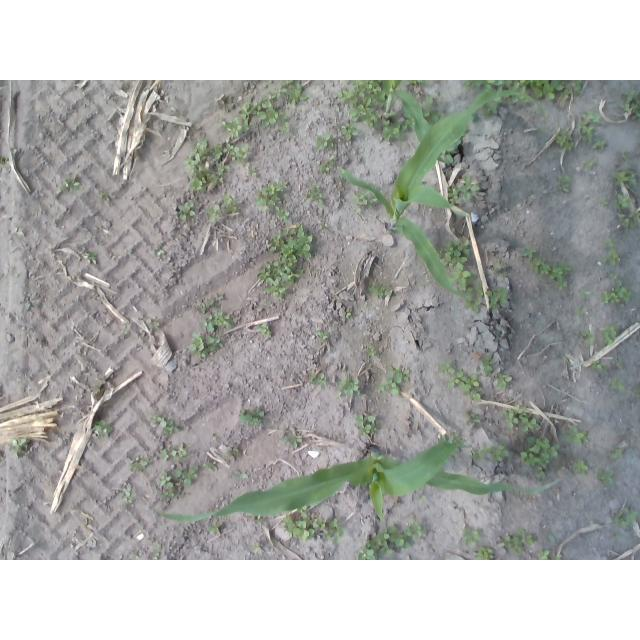Maize: (338, 88, 547, 297), (112, 442, 563, 522), (379, 81, 410, 120)
Weeds: (338, 81, 444, 140), (255, 223, 313, 300), (462, 81, 582, 116), (440, 236, 485, 312), (185, 141, 250, 191), (358, 520, 423, 560), (285, 505, 345, 543), (156, 465, 199, 499), (255, 181, 290, 219), (521, 436, 560, 468), (448, 370, 481, 403), (496, 527, 534, 554), (448, 176, 480, 208), (504, 405, 541, 432), (257, 93, 288, 125), (530, 259, 571, 282), (189, 332, 222, 358), (147, 412, 181, 436), (472, 442, 509, 462), (602, 282, 630, 307), (202, 309, 233, 331), (621, 90, 640, 120), (338, 375, 362, 398), (486, 288, 510, 311), (239, 407, 266, 427), (159, 443, 187, 461), (563, 427, 589, 446), (239, 103, 257, 129), (202, 294, 224, 315), (476, 355, 497, 377), (614, 508, 638, 527), (282, 428, 303, 449), (388, 364, 410, 384), (356, 415, 376, 436), (611, 171, 637, 187), (223, 118, 242, 139), (462, 529, 483, 548), (379, 377, 401, 395), (555, 130, 574, 150), (94, 421, 114, 440), (316, 133, 337, 151), (288, 88, 309, 105), (178, 200, 195, 221), (369, 282, 391, 298), (131, 457, 154, 472), (613, 194, 633, 211), (221, 195, 238, 214), (342, 123, 359, 141), (121, 482, 135, 503), (602, 327, 618, 345), (307, 185, 322, 204), (11, 438, 25, 458), (598, 470, 615, 486), (572, 460, 589, 476), (492, 262, 508, 278), (225, 446, 240, 463), (496, 373, 513, 388), (437, 362, 456, 375), (310, 373, 326, 388), (205, 206, 220, 222), (354, 191, 369, 206), (478, 548, 495, 561), (62, 180, 80, 192), (582, 112, 601, 123), (273, 86, 288, 99), (255, 324, 270, 337), (609, 250, 621, 266), (581, 126, 592, 143), (521, 246, 535, 259), (583, 331, 595, 346), (557, 175, 569, 189), (84, 252, 98, 264), (466, 412, 480, 424), (603, 239, 618, 250), (593, 139, 608, 150), (252, 542, 264, 555), (612, 376, 624, 389), (621, 218, 636, 228), (146, 318, 160, 328), (207, 525, 221, 535), (122, 325, 131, 340), (611, 449, 623, 460), (453, 434, 466, 444), (584, 159, 597, 169), (592, 360, 605, 370), (286, 80, 301, 88), (555, 282, 568, 291), (535, 467, 545, 478), (538, 550, 549, 560), (247, 165, 257, 176), (236, 470, 249, 478), (279, 123, 290, 132), (317, 332, 329, 340), (325, 156, 335, 165), (99, 192, 109, 201), (155, 544, 162, 556), (582, 291, 591, 300), (203, 462, 213, 470), (575, 308, 586, 315), (321, 164, 330, 172), (617, 357, 624, 367), (345, 310, 352, 319), (368, 350, 377, 357), (612, 533, 622, 539), (600, 257, 608, 264), (418, 493, 426, 500), (601, 200, 608, 207), (549, 535, 556, 542), (610, 273, 618, 279), (157, 249, 165, 255), (0, 157, 8, 163), (633, 213, 640, 219), (634, 387, 640, 394), (125, 250, 132, 255), (371, 199, 378, 204), (321, 222, 328, 227), (132, 552, 139, 557), (213, 436, 216, 440), (369, 346, 372, 349)
